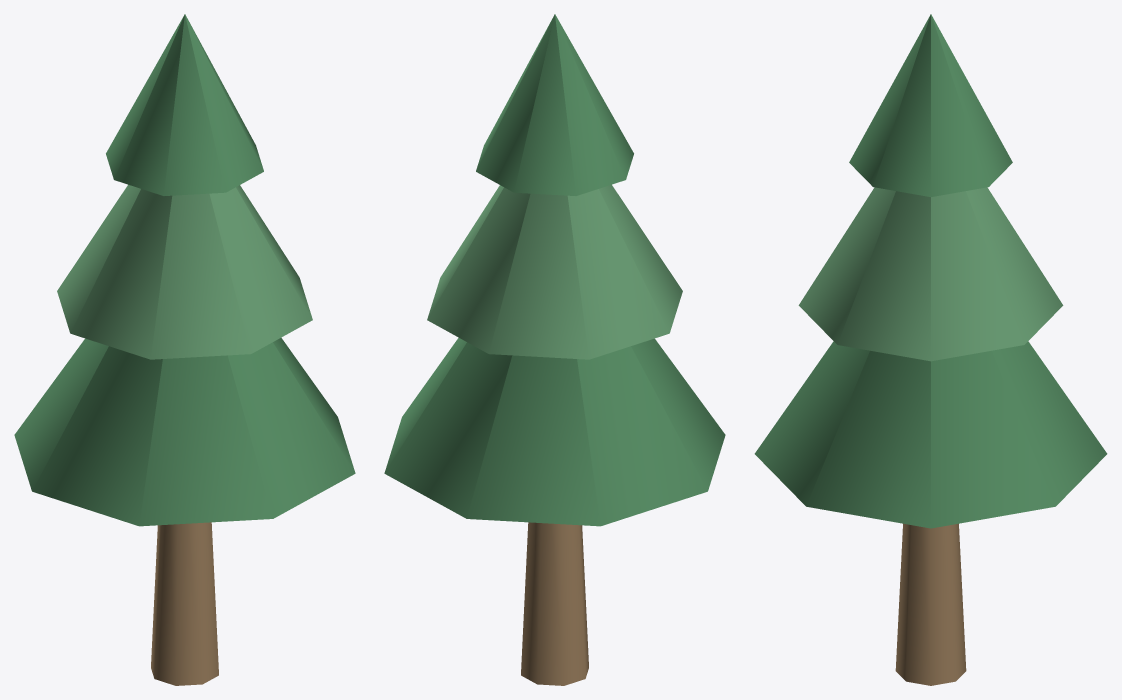
Rendered from arvore_alta.glb.
3 renders of one model, left to right at view 1: azimuth 30°, elevation 25°; view 2: azimuth 150°, elevation 25°; view 3: azimuth 270°, elevation 25°, orthographic.
Visible parts, largest first — view 1: root; view 2: root; view 3: root.
Boxes of the visible parts, box(x1,y1,x2,y2) form: root: box(14, 14, 355, 685); root: box(384, 14, 725, 685); root: box(754, 14, 1107, 685).
Bounding box in the file's own units: 2.8 × 5.75 × 2.8.
